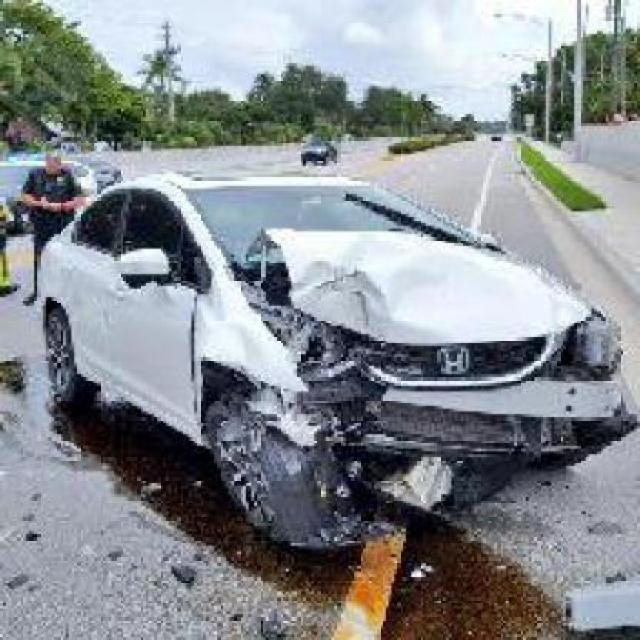damaged-front-bumper: (277, 440, 637, 500)
damaged-hood: (235, 228, 592, 352)
